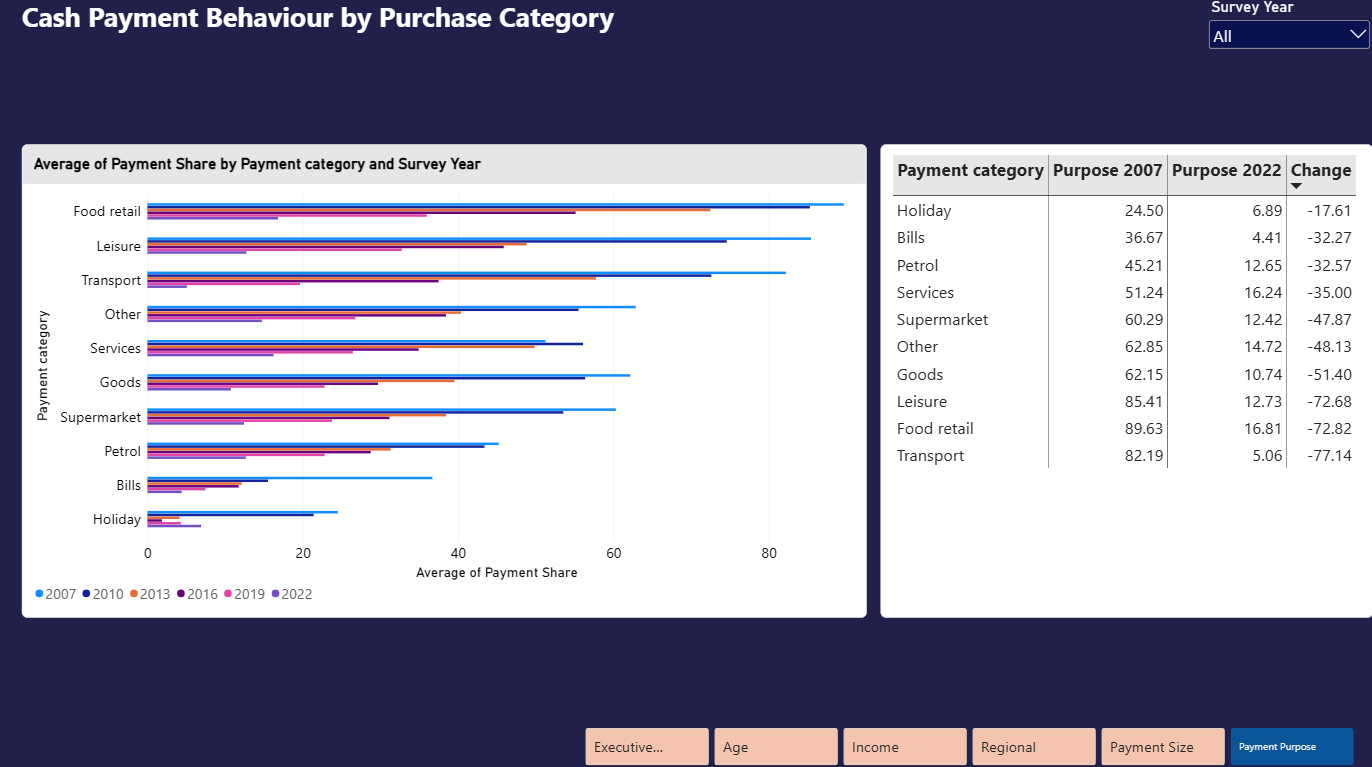

The dashboard page shown, as its layout file describes it:
{"tool":"powerbi","page":{"name":"Payment Purpose","canvas":[1920,1080],"ordinal":5},"visuals":[{"type":"clusteredBarChart","fields":{"Category":["Payment purpose.Payment category"],"Y":["Avg(Payment purpose.Payment Share)"]},"box":[32.9,203.8,1179.4,541.3],"z":0},{"type":"tableEx","fields":{"Values":["Payment purpose.Payment category","Payment purpose.Purpose 2007","Payment purpose.Purpose 2022","Payment purpose.Change"]},"box":[1230.9,203.8,689.5,541.3],"z":1000},{"type":"textbox","box":[33.6,0,1046.1,108],"z":3001},{"type":"pageNavigator","box":[819.9,1018.4,1076.7,52.5],"z":3002}]}

Visuals, with their boxes in screenshot pixels (x1, y1, x2, y2), scaled from the page's 1920x1080 canvas onto the 1372x767 screenshot:
clusteredBarChart - Payment purpose.Payment category x Avg(Payment purpose.Payment Share): (24, 145, 866, 529)
tableEx - Payment purpose.Payment category x Payment purpose.Purpose 2007: (880, 145, 1371, 529)
textbox: (24, 0, 772, 77)
pageNavigator: (586, 723, 1355, 761)
